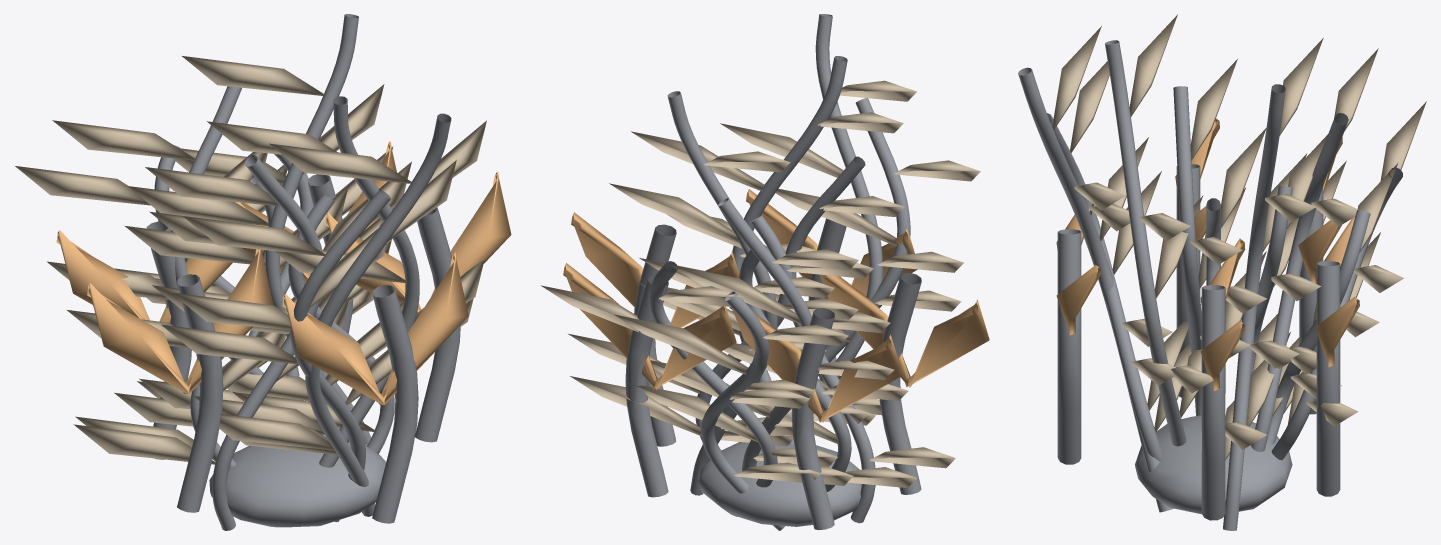
The model's file is bio_aquatic_frond_17_far.glb.
3 views of the same model, side by side, from view 1: azimuth 30°, elevation 25°; view 2: azimuth 150°, elevation 25°; view 3: azimuth 270°, elevation 25° (orthographic). The views are drawn at different scales.
Visible parts, largest first — view 1: Holdfast, Ruffled aquatic blade.010, Ruffled aquatic blade.040, Secondary fan lobe.004, Ruffled aquatic blade.035, Ruffled aquatic blade.020, Ruffled aquatic blade.025, Secondary fan lobe.008, Flexible stipe.002, Ruffled aquatic blade.045, Branching support.002, Ruffled aquatic blade.005 (+19 smaller); view 2: Ruffled aquatic blade.030, Holdfast, Ruffled aquatic blade.005, Ruffled aquatic blade.015, Secondary fan lobe.008, Ruffled aquatic blade.010, Secondary fan lobe.002, Ruffled aquatic blade.040, Branching support.001, Ruffled aquatic blade.020, Branching support.003, Secondary fan lobe.006 (+19 smaller); view 3: Holdfast, Flexible stipe.005, Flexible stipe.008, Branching support.002, Branching support, Branching support.003, Ruffled aquatic blade.025, Ruffled aquatic blade.040, Ruffled aquatic blade.010, Ruffled aquatic blade.035, Flexible stipe.002, Flexible stipe.004 (+19 smaller).
Boxes of the visible parts, box(x1,y1,x2,y2) form: Holdfast: box(209, 435, 386, 527); Ruffled aquatic blade.010: box(171, 143, 456, 450); Ruffled aquatic blade.040: box(125, 56, 391, 402); Secondary fan lobe.004: box(282, 252, 468, 404); Ruffled aquatic blade.035: box(161, 216, 392, 454); Ruffled aquatic blade.020: box(73, 161, 411, 464); Ruffled aquatic blade.025: box(193, 120, 486, 434); Secondary fan lobe.008: box(87, 249, 273, 394); Flexible stipe.002: box(305, 113, 451, 516); Ruffled aquatic blade.045: box(67, 186, 348, 446); Branching support.002: box(372, 285, 418, 523); Ruffled aquatic blade.005: box(47, 120, 296, 409); Ruffled aquatic blade.030: box(570, 314, 848, 482); Holdfast: box(698, 442, 861, 526); Ruffled aquatic blade.005: box(650, 249, 894, 466); Ruffled aquatic blade.015: box(540, 285, 853, 485); Secondary fan lobe.008: box(819, 274, 989, 387); Ruffled aquatic blade.010: box(720, 80, 963, 415); Secondary fan lobe.002: box(729, 307, 902, 422); Ruffled aquatic blade.040: box(609, 151, 858, 436); Branching support.001: box(791, 308, 834, 529); Ruffled aquatic blade.020: box(667, 196, 955, 468); Branching support.003: box(625, 275, 668, 497); Secondary fan lobe.006: box(563, 263, 736, 389); Holdfast: box(1135, 415, 1292, 514); Flexible stipe.005: box(1105, 40, 1186, 446); Flexible stipe.008: box(1223, 84, 1285, 530); Branching support.002: box(1057, 229, 1081, 464); Branching support: box(1201, 285, 1225, 520); Branching support.003: box(1316, 261, 1340, 496); Ruffled aquatic blade.025: box(1129, 14, 1213, 417); Ruffled aquatic blade.040: box(1246, 38, 1323, 426); Ruffled aquatic blade.010: box(1052, 26, 1188, 410); Ruffled aquatic blade.035: box(1070, 61, 1191, 431); Flexible stipe.002: box(1018, 67, 1173, 512); Flexible stipe.004: box(1173, 86, 1201, 415).
Bounding box in the file's own units: 1.85 × 1.89 × 1.56.
